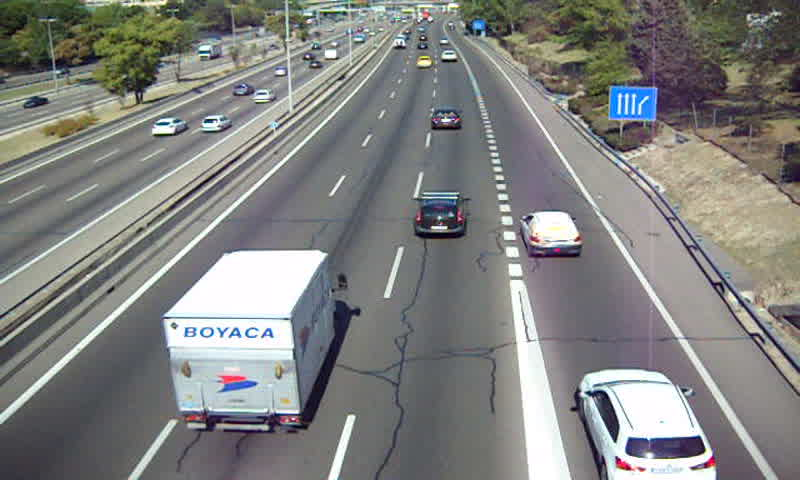car: (578, 368, 715, 480), (520, 210, 582, 256), (413, 190, 468, 236), (429, 107, 461, 130), (416, 55, 432, 70), (440, 49, 458, 62)
small-truck: (162, 250, 339, 433)
